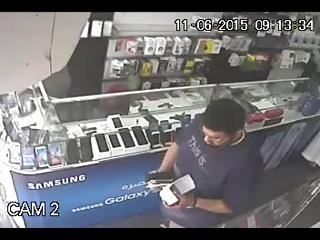shoplifting: (147, 98, 266, 227)
